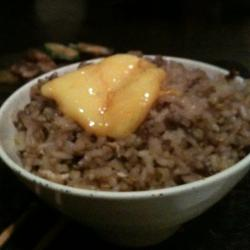rice: (38, 73, 231, 180)
